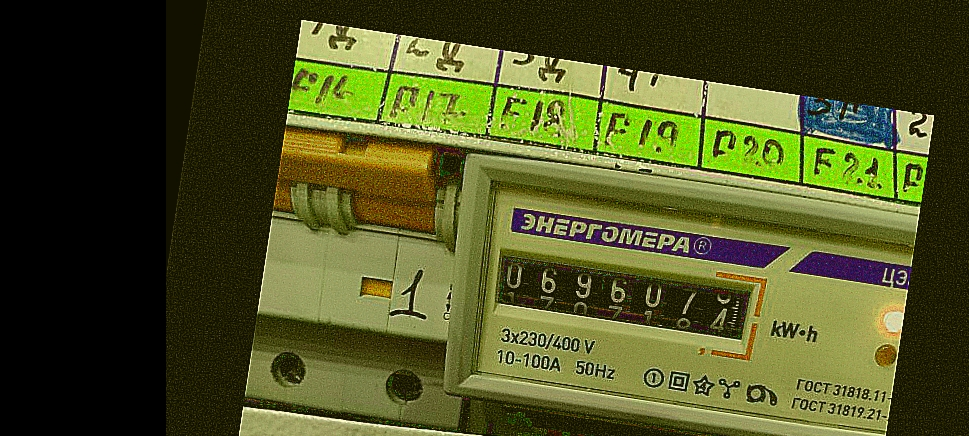0: (501, 258, 526, 291), (642, 279, 665, 310)
4: (706, 304, 729, 335)
6: (606, 273, 630, 307), (537, 264, 560, 295)
7: (676, 283, 699, 316)
9: (572, 269, 596, 301)
screen: (478, 230, 772, 363)
